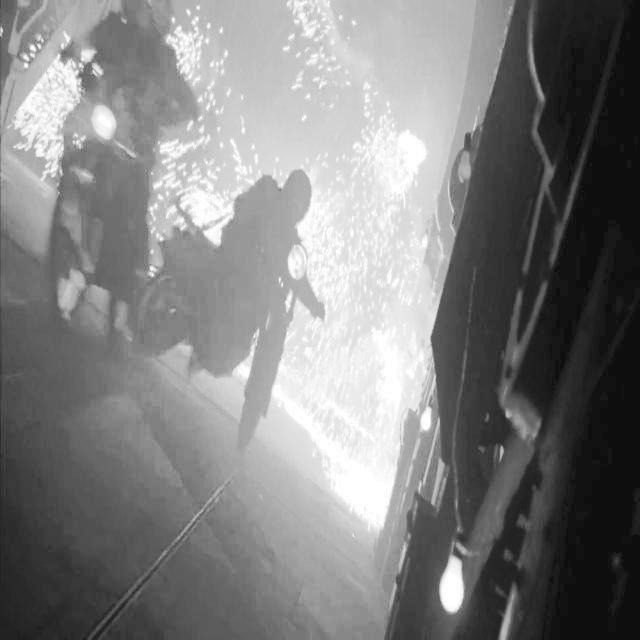Motorcycle: (149, 199, 329, 458), (28, 75, 156, 386)
